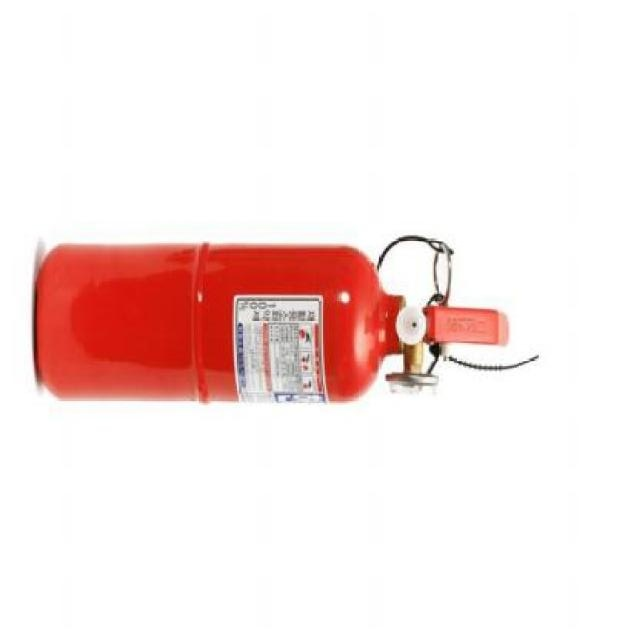fire extinguisher: (33, 241, 510, 407)
